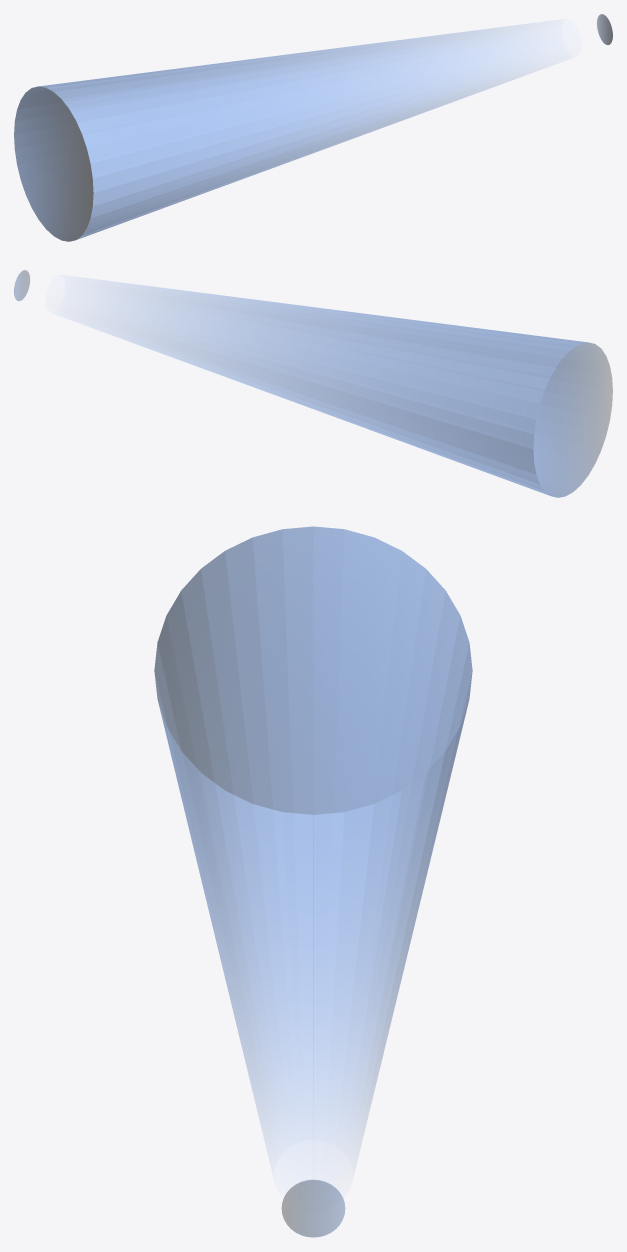
The model's file is thrust-1.glb.
The picture shows the model from 3 angles, top to bottom: view 1: azimuth 30°, elevation 25°; view 2: azimuth 150°, elevation 25°; view 3: azimuth 270°, elevation 25°; orthographic projection. The views are drawn at different scales.
Parts seen in each view (by area): view 1: Thruster_Flame; view 2: Thruster_Flame; view 3: Thruster_Flame.
Boxes of the visible parts, x1,y1,x2,y2 form: Thruster_Flame: [14, 14, 612, 241]; Thruster_Flame: [14, 270, 612, 497]; Thruster_Flame: [154, 526, 472, 1237].
Size of the model in its own units: 2 by 0.5 by 0.5.
Materials: 1 (1 with a texture image).
